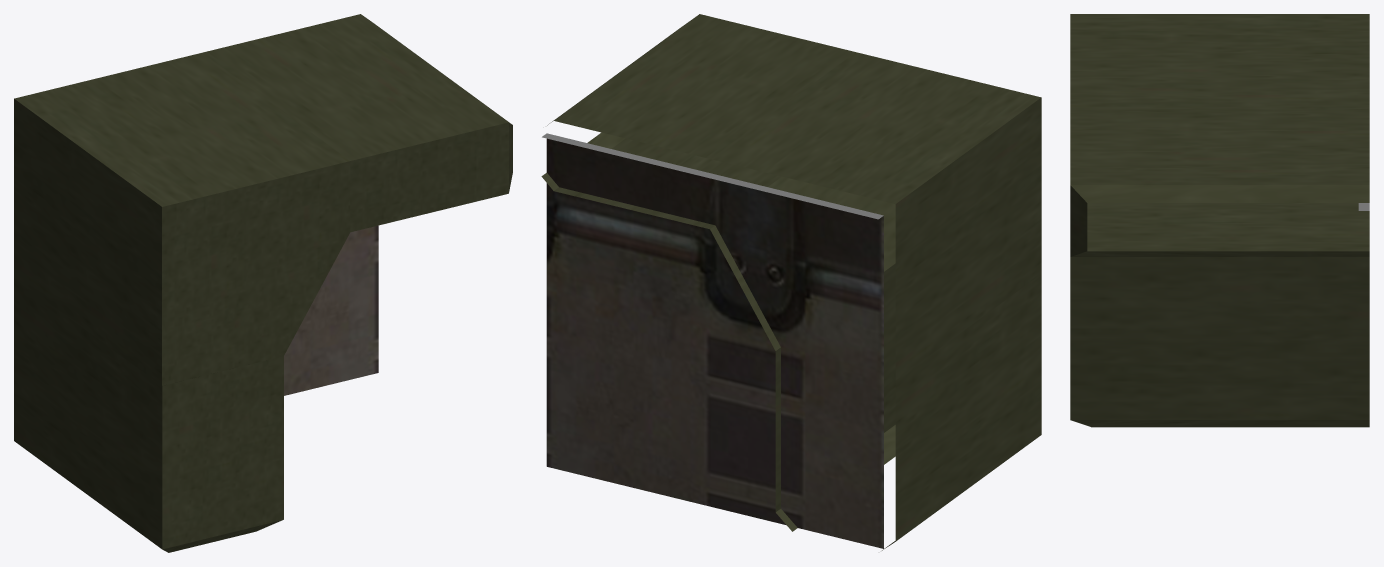
Rendered from CubeBaseFrontDoorTL.fbx.
3 views of the same model, side by side, from view 1: azimuth 30°, elevation 25°; view 2: azimuth 150°, elevation 25°; view 3: azimuth 270°, elevation 25° (orthographic). The views are drawn at different scales.
Visible parts, largest first — view 1: polySurface2, pCube4; view 2: pCube4, polySurface2; view 3: polySurface2.
Boxes of the visible parts, x1,y1,x2,y2 form: polySurface2: (14,14,512,552); pCube4: (284,225,378,395); pCube4: (542,133,883,548); polySurface2: (541,14,1041,550); polySurface2: (1070,14,1369,427).
Bounding box in the file's own units: 1.05 × 1 × 0.7503.
2 materials, 2 textured.
